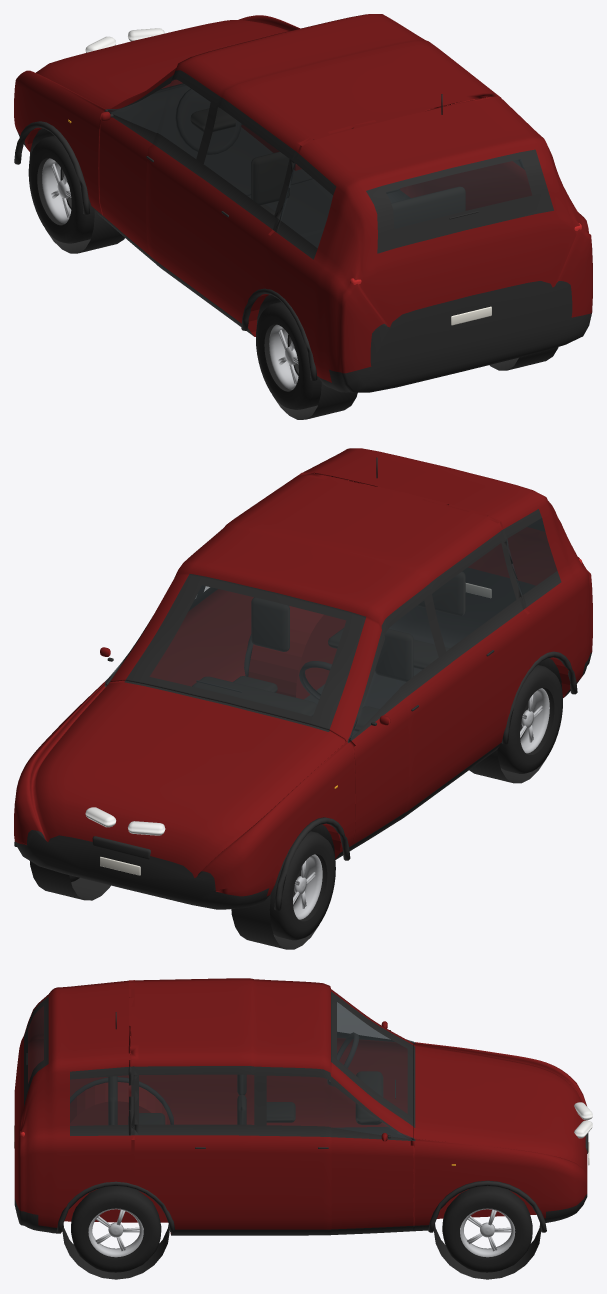
The model's file is hatch_3.glb.
3 renders of one model, top to bottom at view 1: azimuth 30°, elevation 25°; view 2: azimuth 150°, elevation 25°; view 3: azimuth 270°, elevation 25°, orthographic. The views are drawn at different scales.
Visible parts, largest first — view 1: body, wheel_0, wheel_2; view 2: body, wheel_0, wheel_2; view 3: body, wheel_3, wheel_1.
Boxes of the visible parts, x1=… form: body: x1=14, y1=14, x2=592, y2=419; wheel_0: x1=28, y1=135, x2=94, y2=243; wheel_2: x1=256, y1=302, x2=321, y2=409; body: x1=14, y1=448, x2=592, y2=949; wheel_0: x1=269, y1=831, x2=335, y2=940; wheel_2: x1=497, y1=665, x2=562, y2=773; body: x1=14, y1=978, x2=592, y2=1279; wheel_3: x1=71, y1=1186, x2=161, y2=1272; wheel_1: x1=442, y1=1186, x2=532, y2=1272.
Size of the model in its own units: 1.78 by 1.67 by 3.77.
